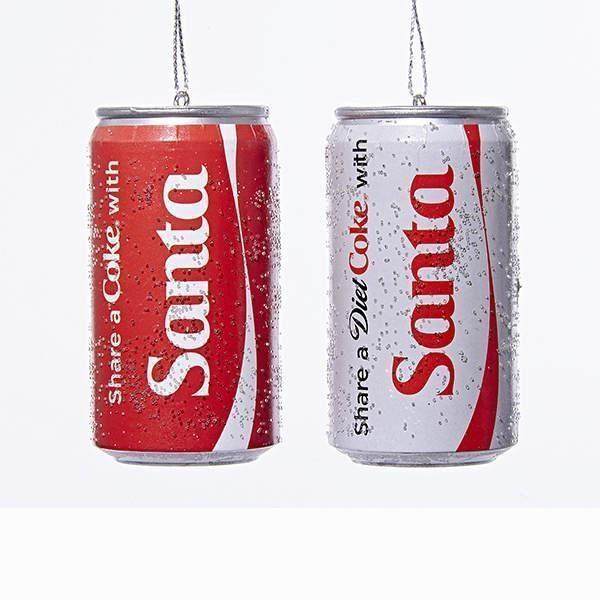tin can: (86, 98, 284, 468), (323, 100, 520, 471)
